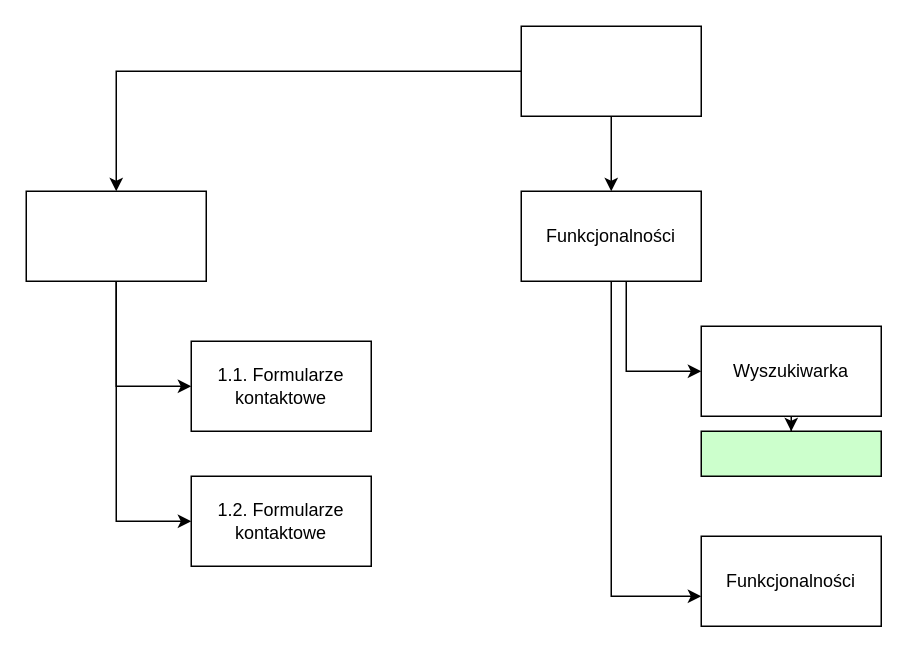
This 908x653 diagram has some shape labels left out. The shapes that lost their labels are listed below. From the top down, each one's centre as x and y in pixels, then its label:
At point 610,70: "Projekt wyszukiwarki ofert pracy".
At point 115,235: "1 Formularze kontaktowe".
At point 790,453: "Filtrowanie po miejscach".
